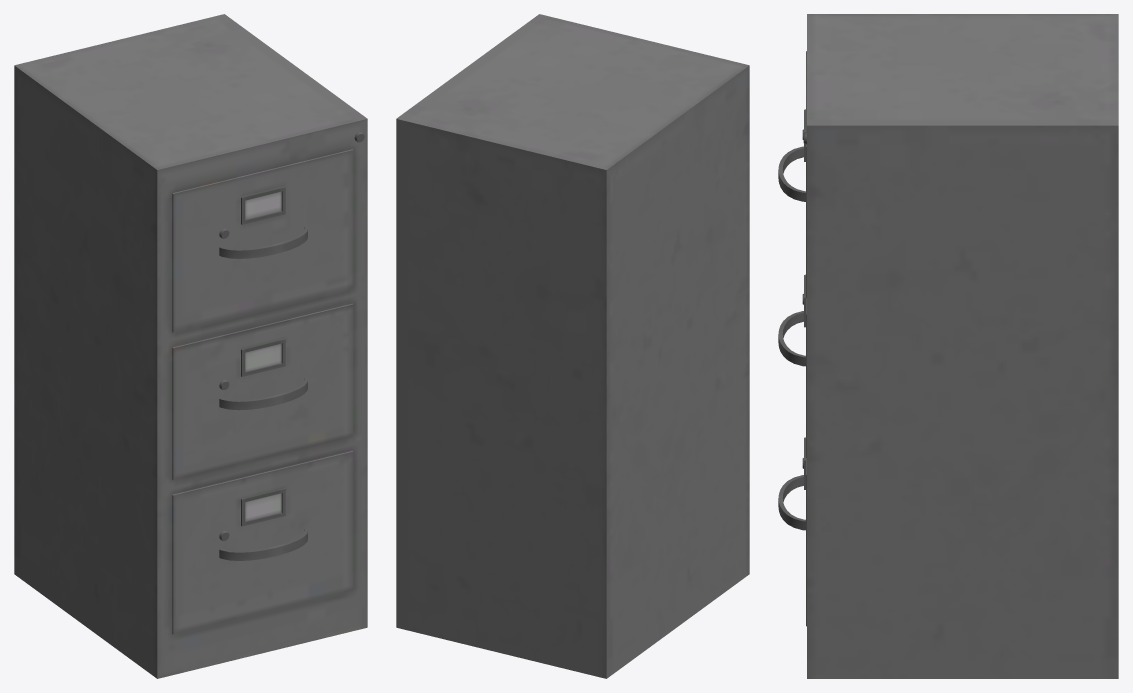
Rendered from Filing_Cabinets_3.obj.
The picture shows the model from 3 angles, left to right: view 1: azimuth 30°, elevation 25°; view 2: azimuth 150°, elevation 25°; view 3: azimuth 270°, elevation 25°; orthographic projection. The views are drawn at different scales.
Visible parts, largest first — view 1: g0; view 2: g0; view 3: g0.
Boxes of the visible parts, x1,y1,x2,y2 form: g0: [14, 14, 367, 678]; g0: [396, 14, 749, 678]; g0: [778, 14, 1118, 678].
Size of the model in its own units: 0.4498 by 1.04 by 0.5788.
Materials: 1 (1 with a texture image).
